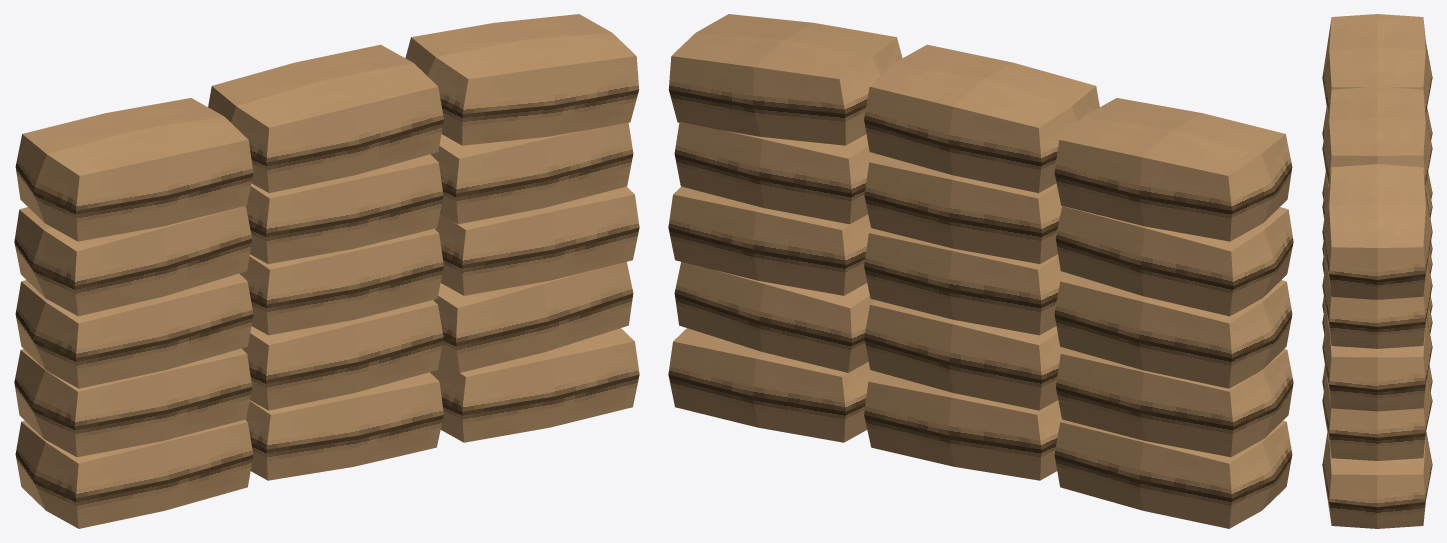
File: Sandbags.fbx
3 renders of one model, left to right at view 1: azimuth 30°, elevation 25°; view 2: azimuth 150°, elevation 25°; view 3: azimuth 270°, elevation 25°, orthographic. The views are drawn at different scales.
Visible parts, largest first — view 1: Cube.013; view 2: Cube.013; view 3: Cube.013.
Boxes of the visible parts, x1,y1,x2,y2 form: Cube.013: (14,14,639,528); Cube.013: (668,14,1293,528); Cube.013: (1322,14,1432,528).
Bounding box in the file's own units: 116 × 71.25 × 23.54.
Materials: 1 (1 with a texture image).
